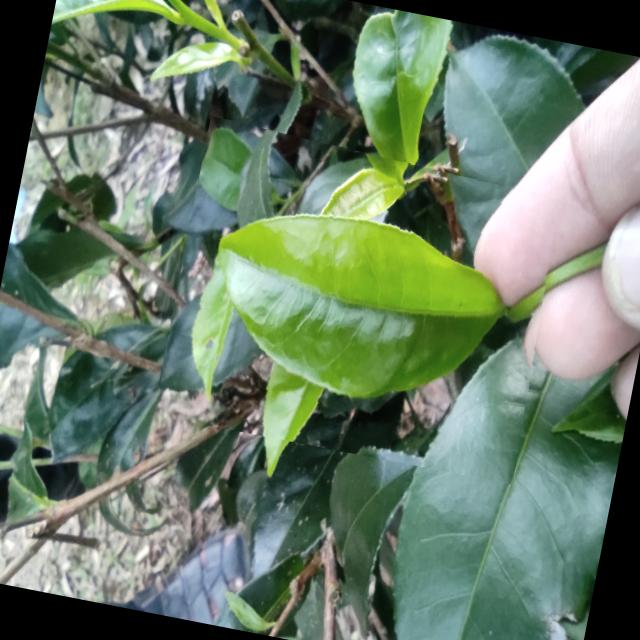Category C 4-7 days: (153, 114, 571, 483)
